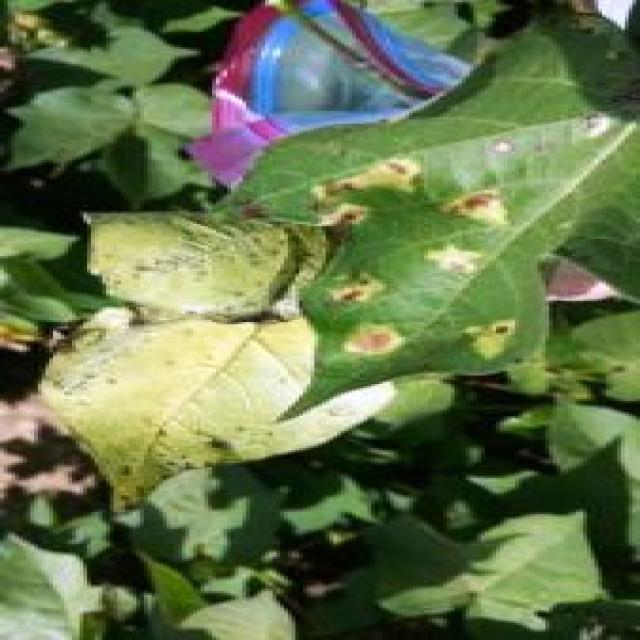Bacterial Blight: (277, 144, 538, 366)
